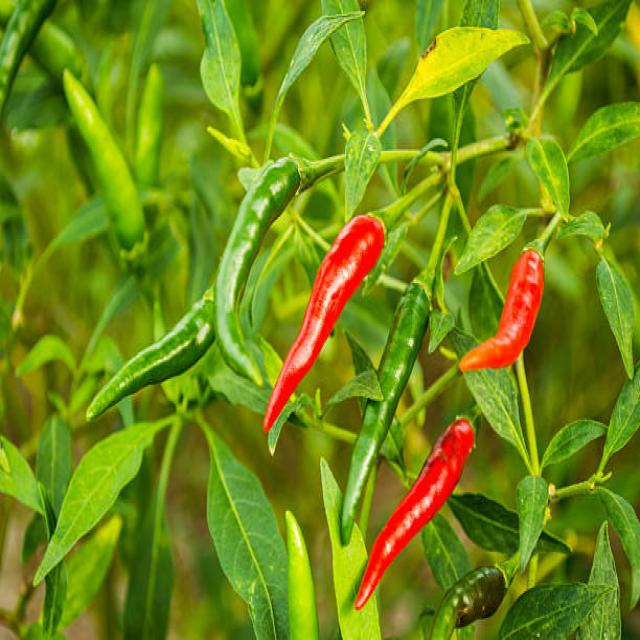Ripe: (264, 214, 385, 431), (355, 419, 474, 609), (459, 250, 544, 371)
Unripe: (341, 282, 429, 542), (214, 158, 301, 384), (86, 289, 215, 420), (431, 566, 506, 638), (287, 509, 319, 638)
